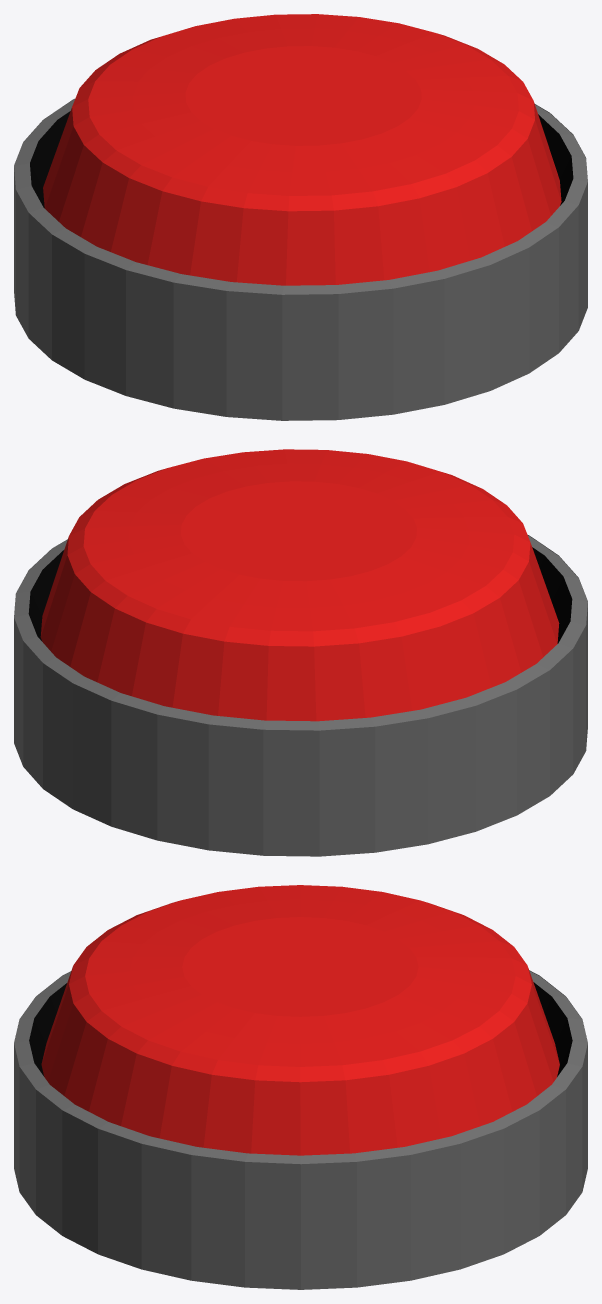
File: button.glb
3 views of the same model, one above another, from view 1: azimuth 30°, elevation 25°; view 2: azimuth 150°, elevation 25°; view 3: azimuth 270°, elevation 25° (orthographic).
Parts seen in each view (by area): view 1: Cylinder; view 2: Cylinder; view 3: Cylinder.
Part boxes in pixels (bbox=[...]): Cylinder: bbox=[14, 14, 587, 420]; Cylinder: bbox=[14, 449, 587, 856]; Cylinder: bbox=[14, 885, 587, 1289].
Bounding box in the file's own units: 2 × 0.7798 × 2.
